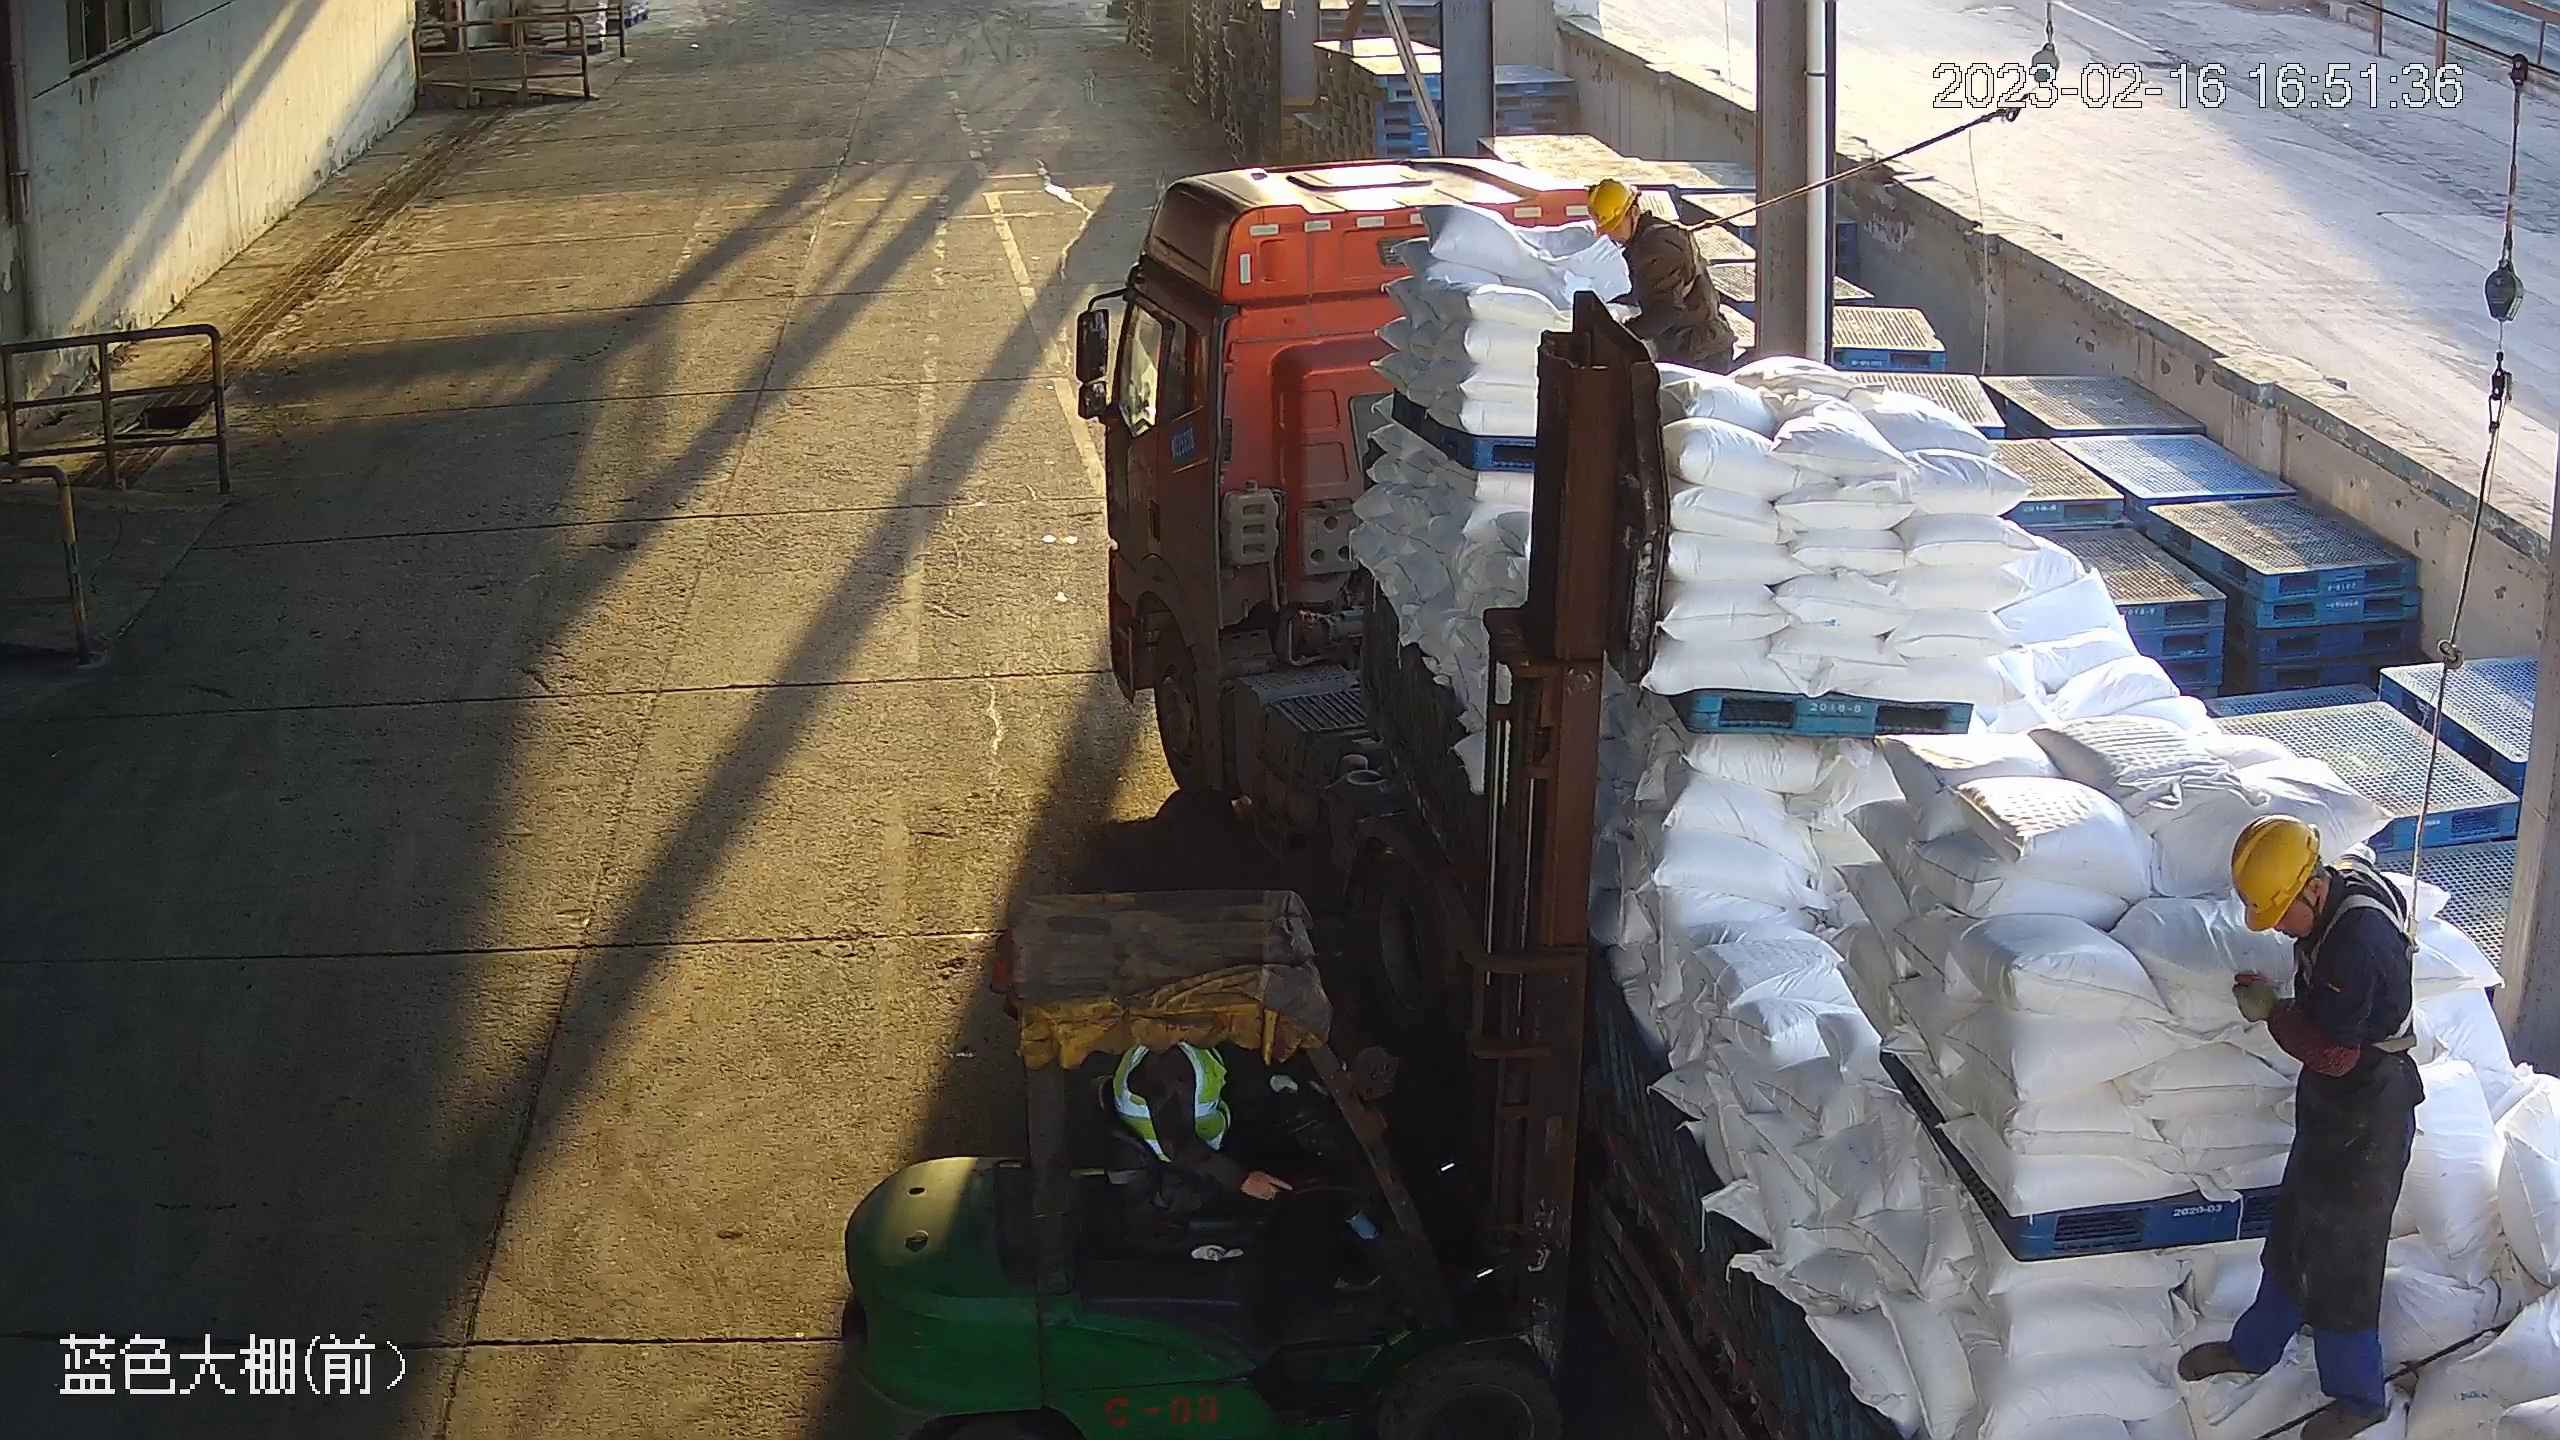belt: (2292, 859, 2425, 1049), (1642, 212, 1716, 292)
head: (2225, 818, 2427, 988), (1583, 175, 1712, 277)
helmet: (2222, 807, 2329, 931), (1586, 173, 1635, 229)
people: (2183, 805, 2425, 1438), (1594, 168, 1733, 366)
truck: (1061, 140, 2560, 1440)
